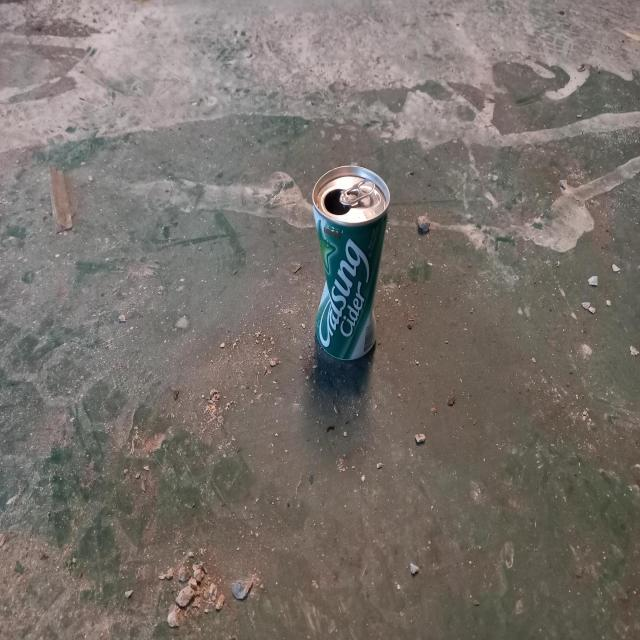can: (312, 165, 390, 360)
